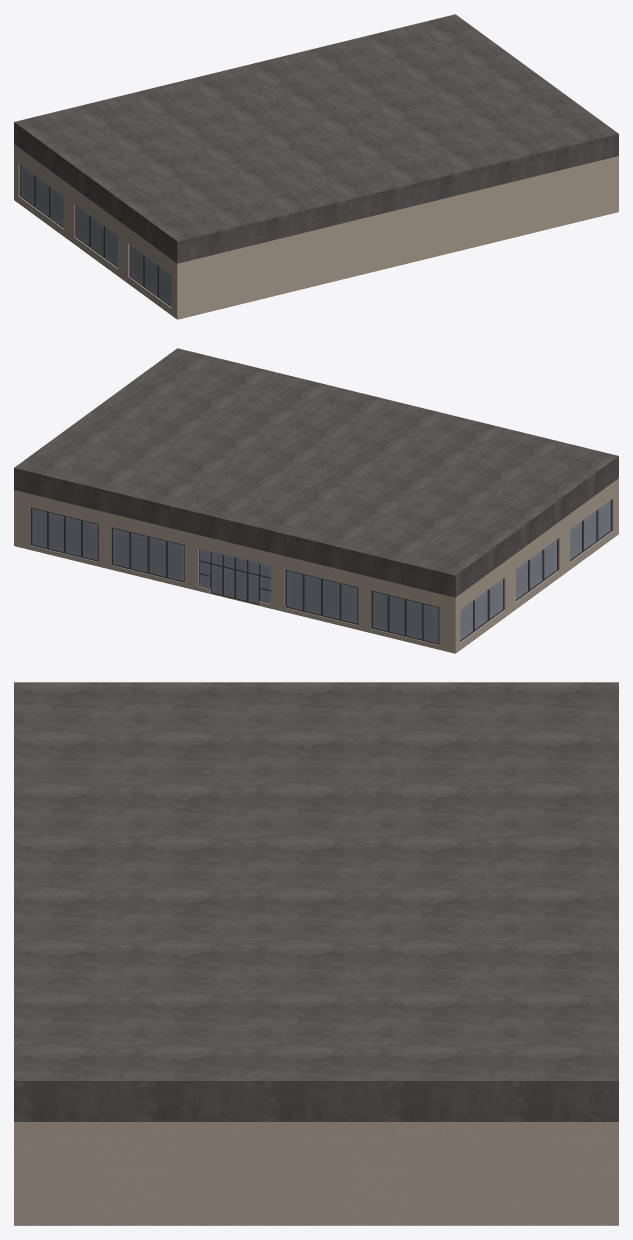
Rendered from Showroom_MTL1_MainStructure.fbx.
The picture shows the model from 3 angles, top to bottom: view 1: azimuth 30°, elevation 25°; view 2: azimuth 150°, elevation 25°; view 3: azimuth 270°, elevation 25°; orthographic projection. The views are drawn at different scales.
Visible parts, largest first — view 1: Roof.002, Cube.055, Plane.002, Cube.059, Plane.001; view 2: Roof.002, Cube.055, Plane.002, Cube.058, Cube.059, Plane.001, Cube.167; view 3: Roof.002, Cube.055.
Part boxes in pixels (box(x1,y1,x2,y2)): Roof.002: box(14, 14, 618, 263); Cube.055: box(14, 144, 618, 319); Plane.002: box(21, 166, 171, 305); Cube.059: box(19, 164, 171, 306); Plane.001: box(14, 200, 618, 319); Roof.002: box(14, 348, 618, 597); Cube.055: box(14, 478, 618, 653); Plane.002: box(32, 500, 610, 642); Cube.058: box(30, 507, 439, 644); Cube.059: box(460, 499, 612, 641); Plane.001: box(14, 534, 618, 653); Cube.167: box(210, 563, 260, 604); Roof.002: box(14, 682, 618, 1121); Cube.055: box(14, 1122, 618, 1225).
Bounding box in the file's own units: 5448 × 921 × 3493.
